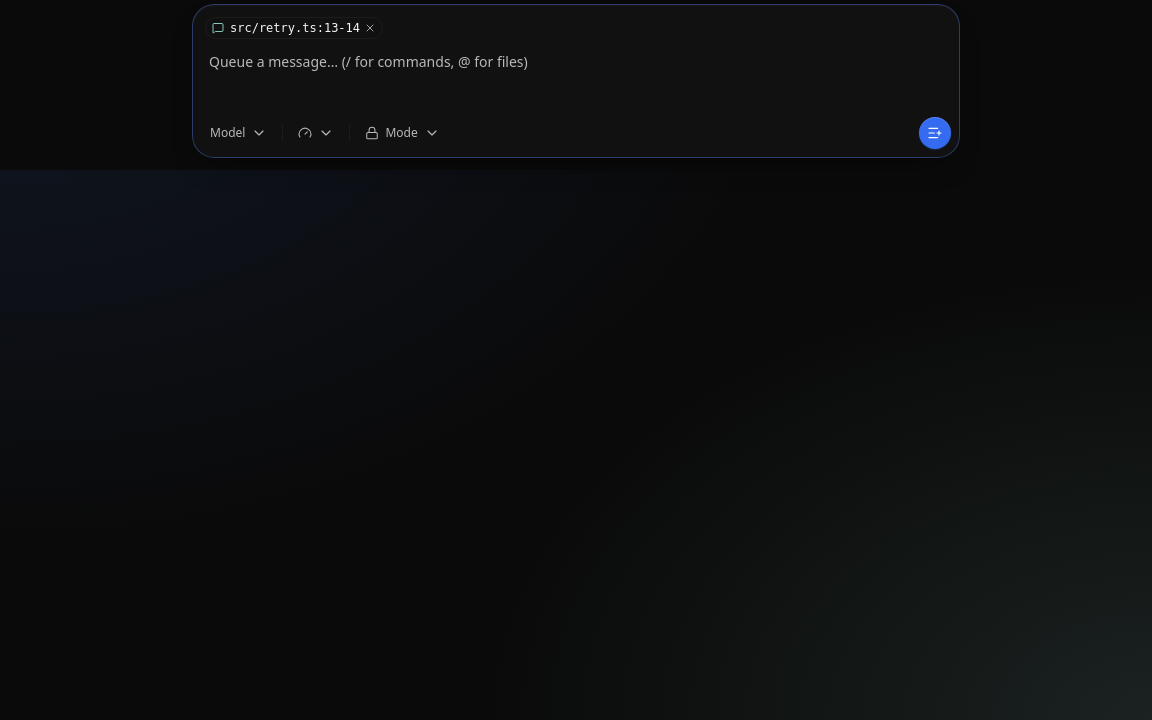
it: Composer diff comments › drops a comment from its chip
The width and height of the screenshot is (1152, 720).
Click the button named "Remove the comment on src/retry.ts:13-14" at {"x": 370, "y": 28}, box [364, 22, 376, 34]
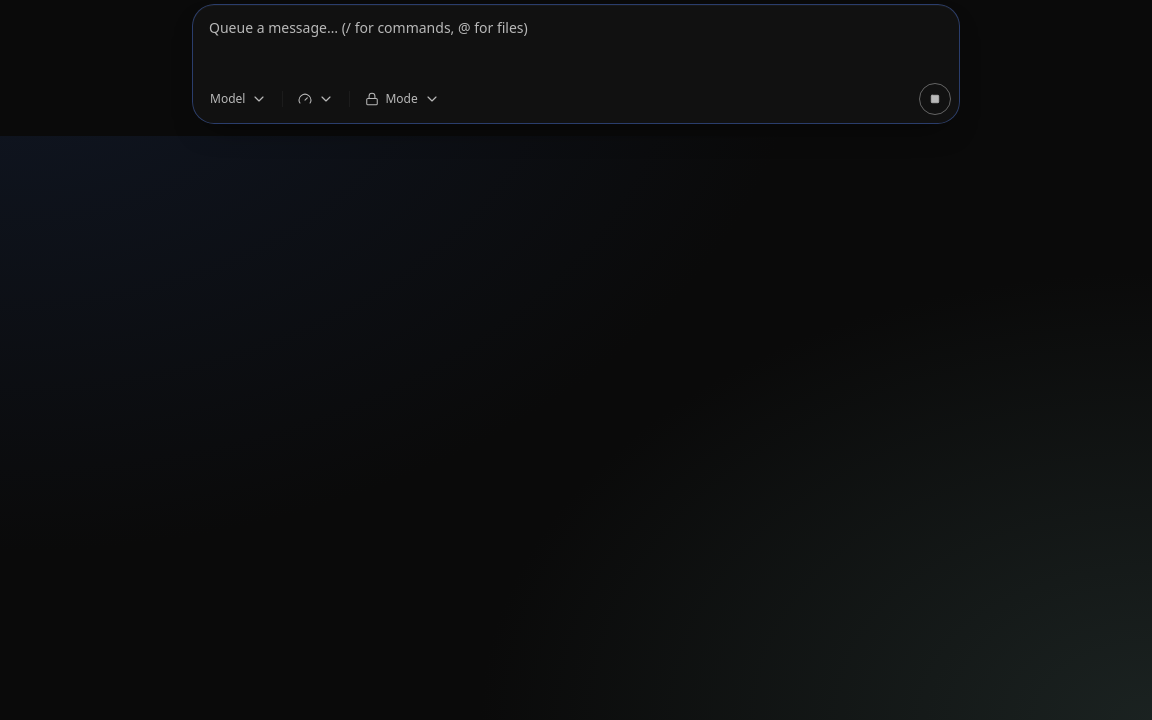
expect the list item with test id "diff-comment-chip" is gone: met
